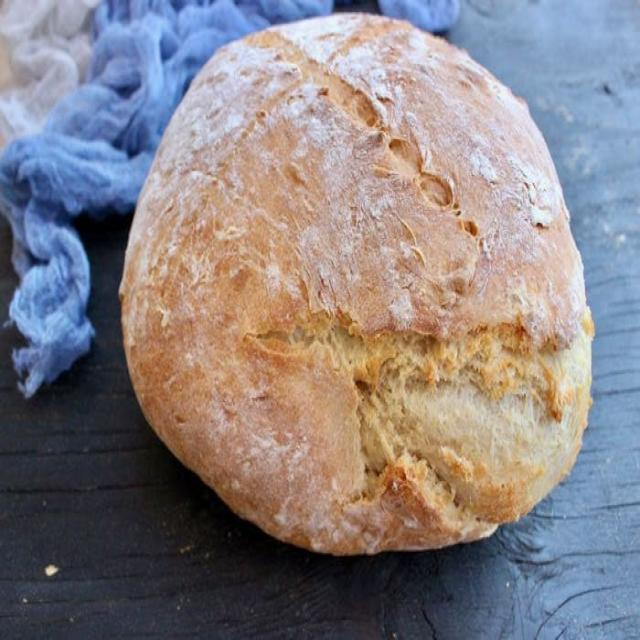Maltese-Bread: (119, 15, 593, 554)
